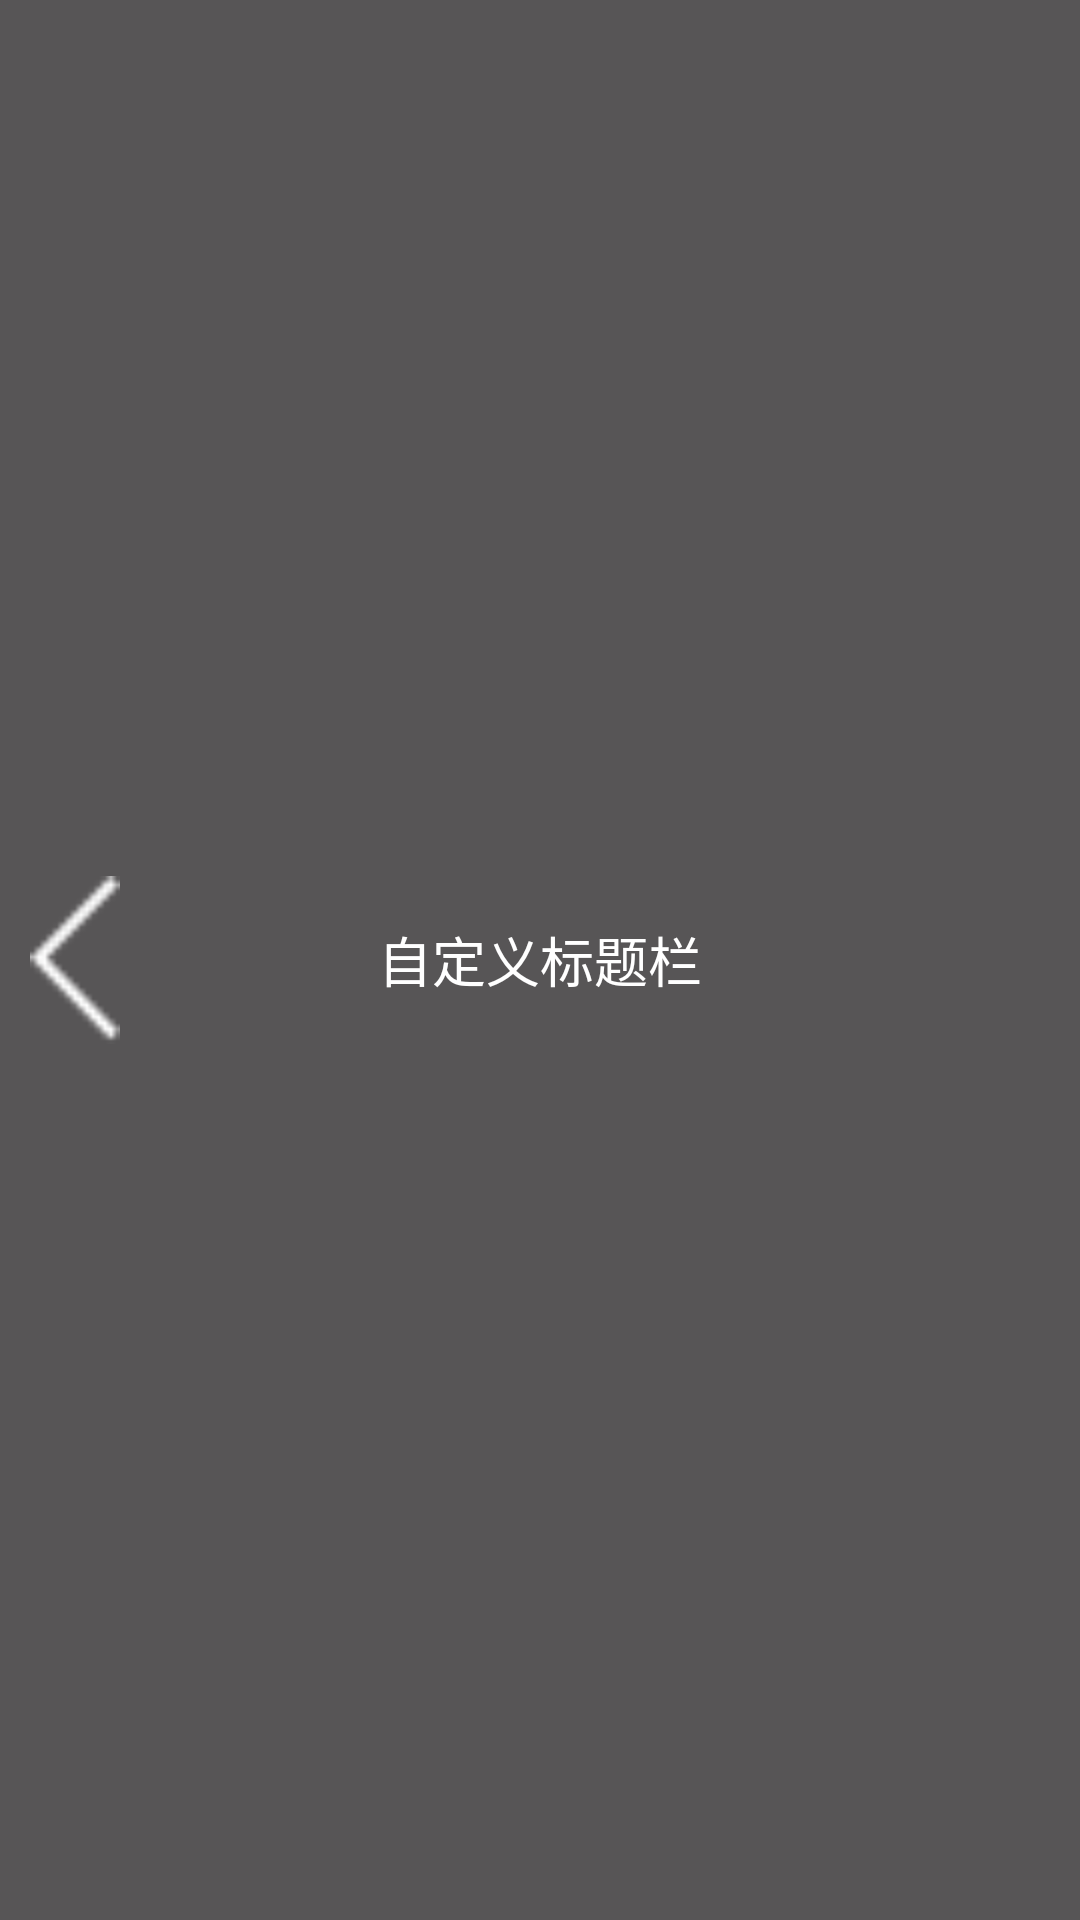

Screen size 1080×1920. Icon name, then its center in pixels as (x,y):
backcall: (75,958)
